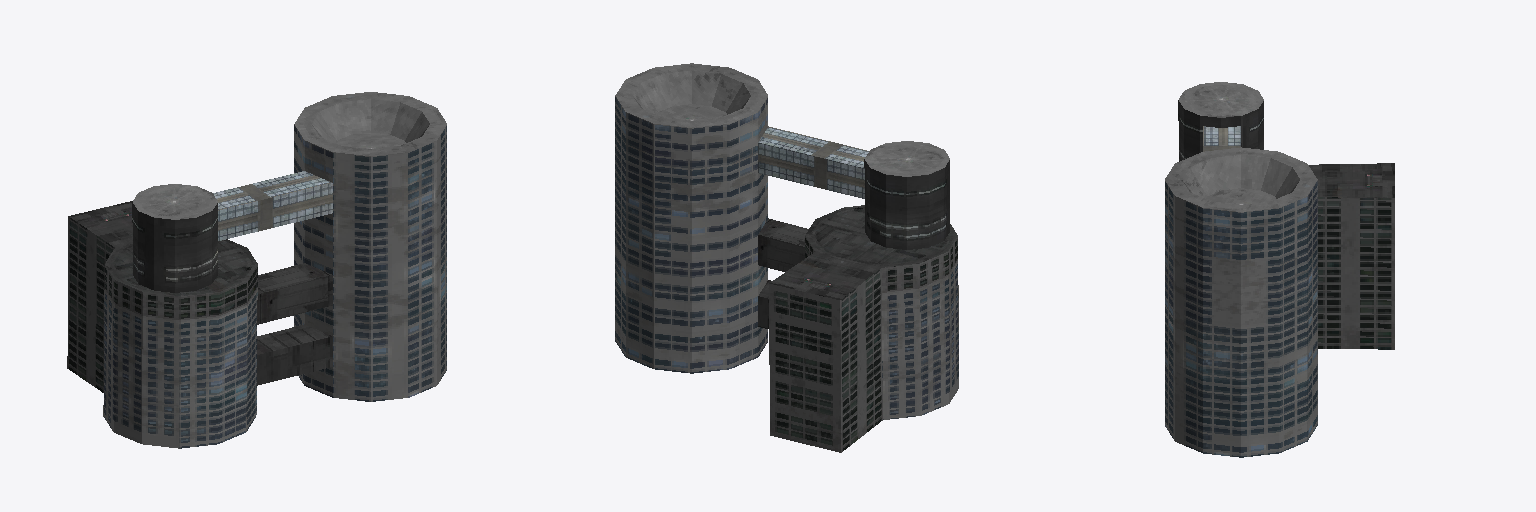
The picture shows the model from 3 angles: view 1: azimuth 30°, elevation 25°; view 2: azimuth 150°, elevation 25°; view 3: azimuth 270°, elevation 25°; orthographic projection.
Visible parts, largest first — view 1: building_43; view 2: building_43; view 3: building_43.
Part boxes in pixels (x1,y1,x2,y2): building_43: (67, 92, 446, 448); building_43: (615, 63, 958, 452); building_43: (1165, 82, 1394, 457).
Bounding box in the file's own units: 116 × 84.03 × 71.5.
Materials: 1 (1 with a texture image).